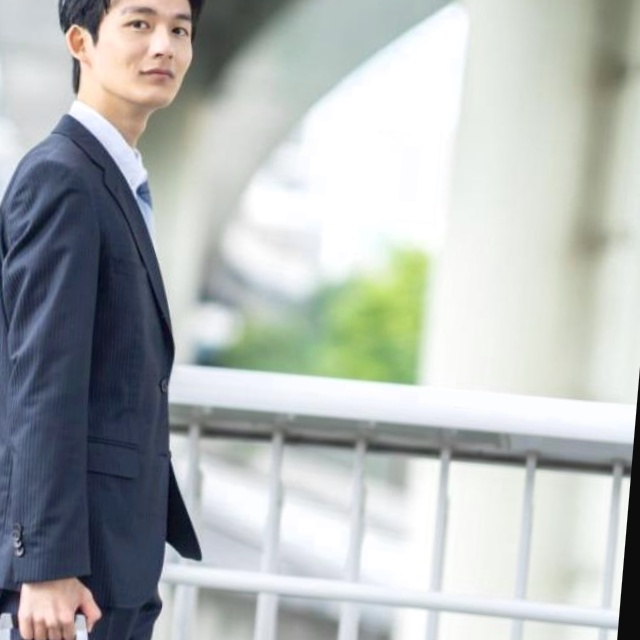Sin_Casco_Mascarrilla: (48, 0, 213, 116)
Sin_Chaleco: (0, 117, 190, 609)
